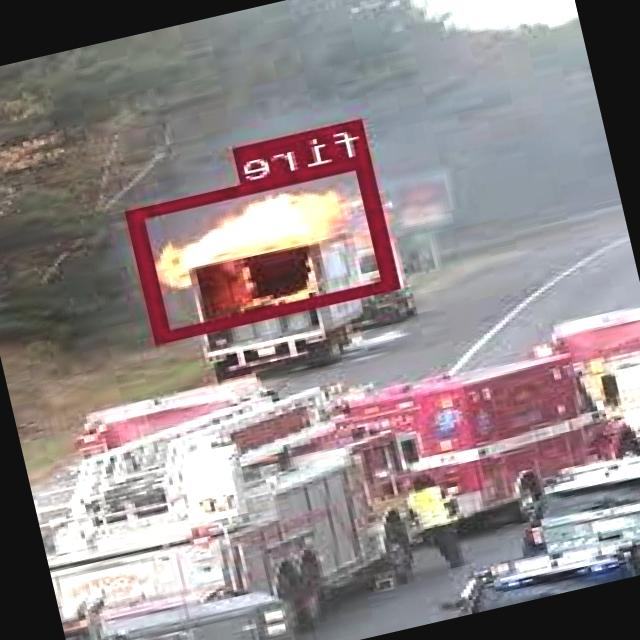fire: (129, 153, 402, 341)
